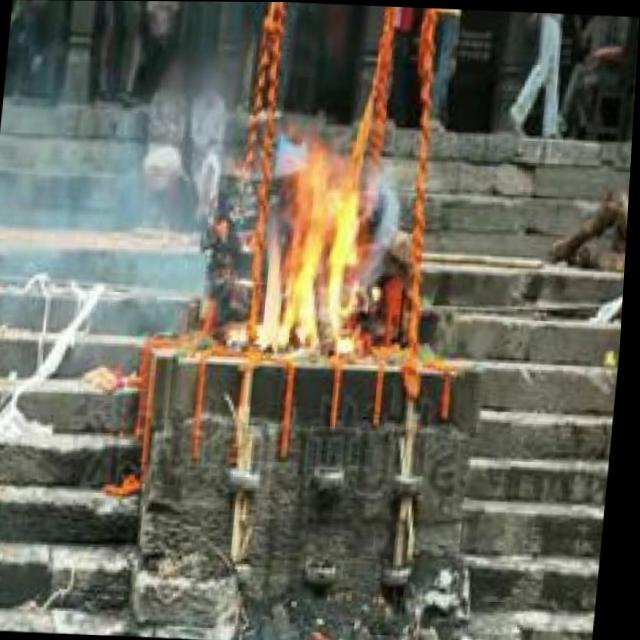Fire: (241, 131, 373, 360)
